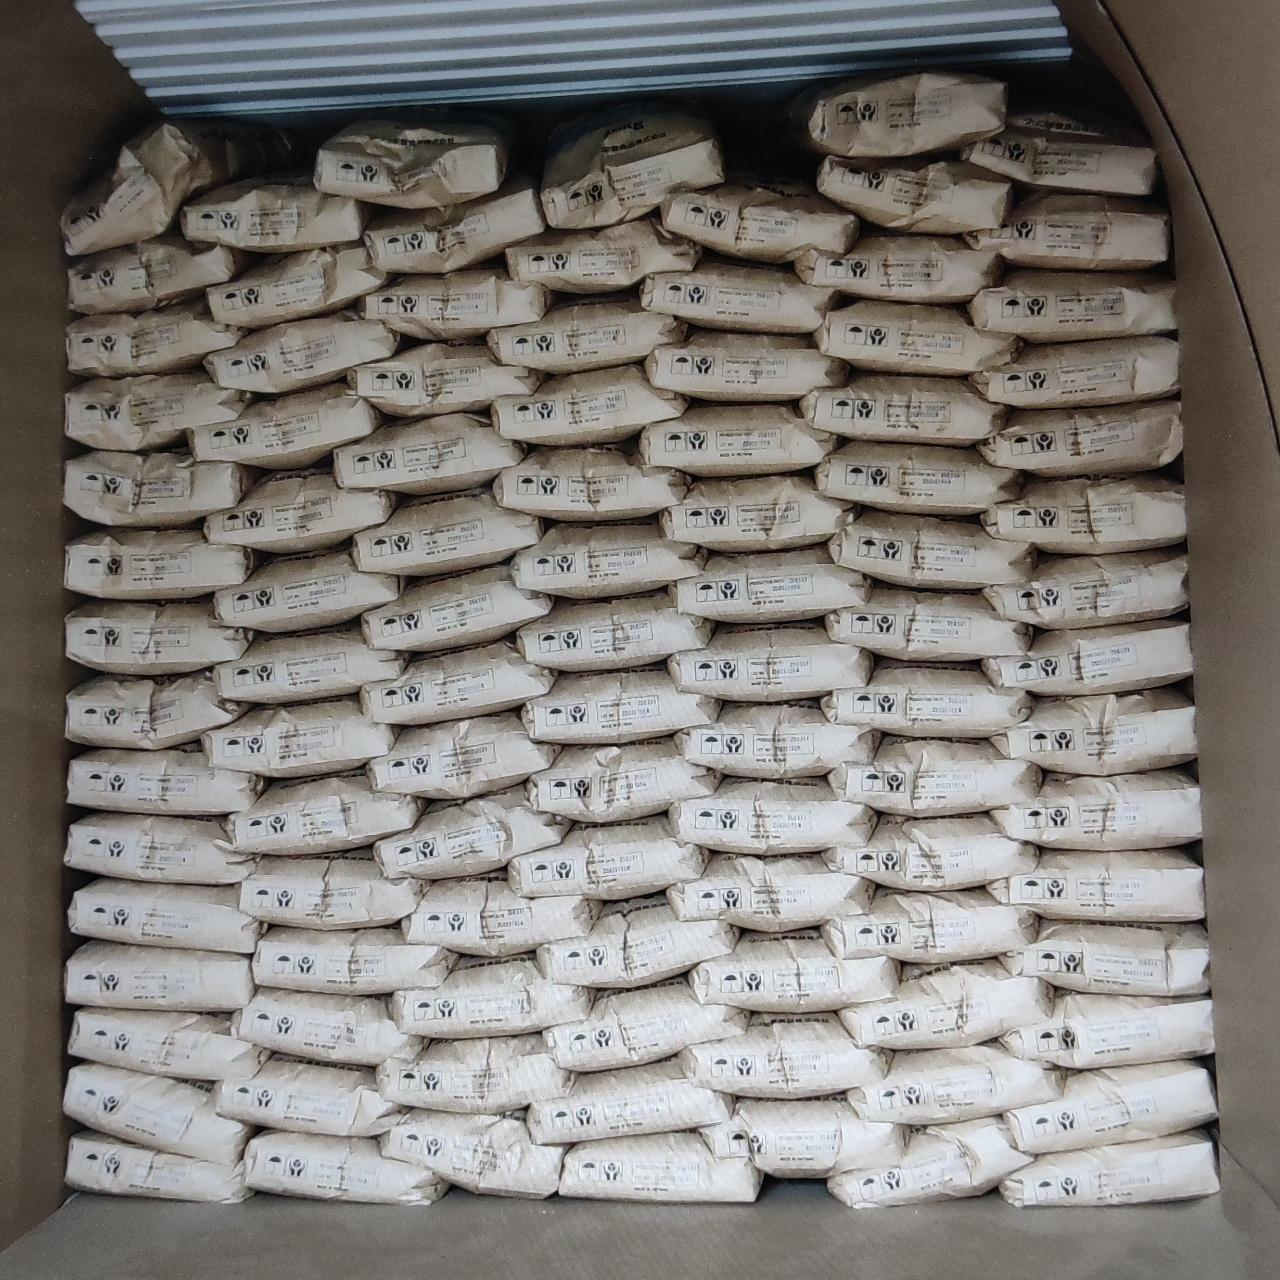sack: (62, 124, 286, 254), (542, 110, 722, 226), (770, 72, 1005, 156), (1005, 1062, 1214, 1150), (546, 978, 744, 1070), (840, 960, 1051, 1046), (538, 896, 736, 986), (318, 122, 527, 206), (64, 1064, 252, 1158), (374, 787, 566, 878), (990, 688, 1196, 774), (960, 105, 1155, 195), (846, 1044, 1062, 1124), (830, 1121, 1030, 1206), (658, 178, 858, 263), (530, 1060, 731, 1142), (190, 382, 382, 468), (680, 1014, 886, 1094), (1000, 1130, 1216, 1206), (1000, 990, 1212, 1068), (992, 768, 1200, 846), (690, 932, 896, 1012), (362, 564, 550, 651), (828, 510, 1034, 588), (824, 813, 1036, 890), (830, 736, 1039, 813), (983, 550, 1189, 628), (390, 956, 592, 1036), (510, 816, 706, 898), (368, 712, 558, 796), (700, 1098, 908, 1175), (362, 640, 556, 722), (822, 888, 1036, 962), (354, 490, 542, 574), (824, 660, 1030, 736), (527, 738, 719, 821), (366, 181, 542, 270), (404, 876, 598, 956), (229, 772, 424, 852), (826, 584, 1030, 660), (670, 778, 874, 855), (964, 192, 1167, 268), (522, 663, 719, 742), (207, 241, 390, 326), (670, 622, 870, 700), (980, 400, 1182, 476), (676, 702, 878, 778), (493, 365, 686, 444), (382, 1112, 566, 1196), (204, 312, 399, 390), (983, 620, 1190, 694), (358, 263, 554, 340), (796, 229, 1002, 302), (1000, 920, 1206, 994), (215, 1054, 406, 1133), (212, 624, 406, 702), (988, 847, 1204, 918), (215, 549, 402, 629), (640, 254, 836, 332), (206, 470, 396, 550), (668, 855, 870, 930), (518, 592, 710, 670), (813, 300, 1017, 374), (968, 270, 1175, 342), (799, 372, 1006, 444), (241, 1130, 444, 1204), (982, 476, 1184, 550), (204, 696, 396, 774), (488, 297, 686, 372), (377, 1034, 572, 1110), (660, 474, 855, 550), (816, 442, 1020, 515), (506, 216, 700, 292), (179, 173, 367, 252), (64, 450, 264, 524), (640, 402, 838, 476), (670, 549, 869, 622), (971, 336, 1178, 406), (336, 416, 524, 492), (818, 156, 1012, 230), (512, 520, 702, 595), (66, 370, 248, 448), (68, 232, 250, 309), (232, 988, 422, 1062), (493, 445, 686, 518), (68, 1008, 266, 1078), (70, 878, 264, 949), (348, 342, 542, 414), (68, 297, 246, 374), (68, 672, 248, 748), (240, 852, 425, 926), (646, 331, 846, 399), (64, 527, 258, 598), (66, 598, 252, 670), (68, 812, 254, 884), (68, 745, 264, 813), (66, 940, 252, 1010), (560, 1132, 760, 1198), (66, 1130, 248, 1201), (254, 926, 456, 990)
